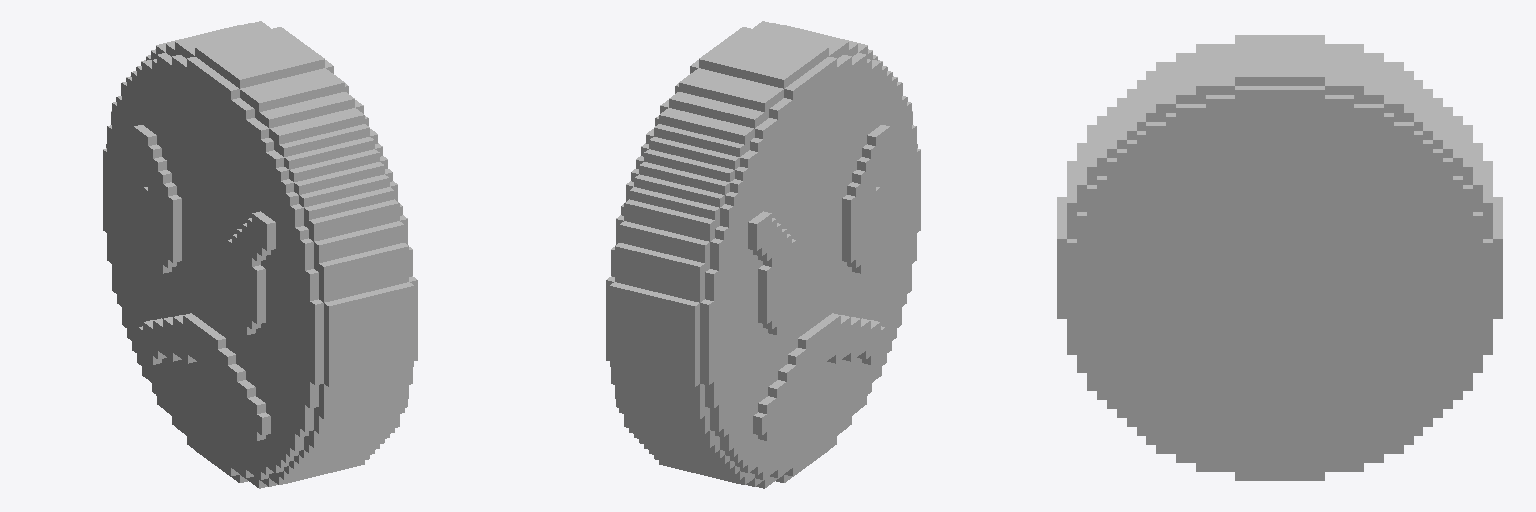
The model's file is Yellow Angry.obj.
The picture shows the model from 3 angles: view 1: azimuth 30°, elevation 25°; view 2: azimuth 150°, elevation 25°; view 3: azimuth 270°, elevation 25°; orthographic projection.
Bounding box in the file's own units: 13 × 45 × 45.